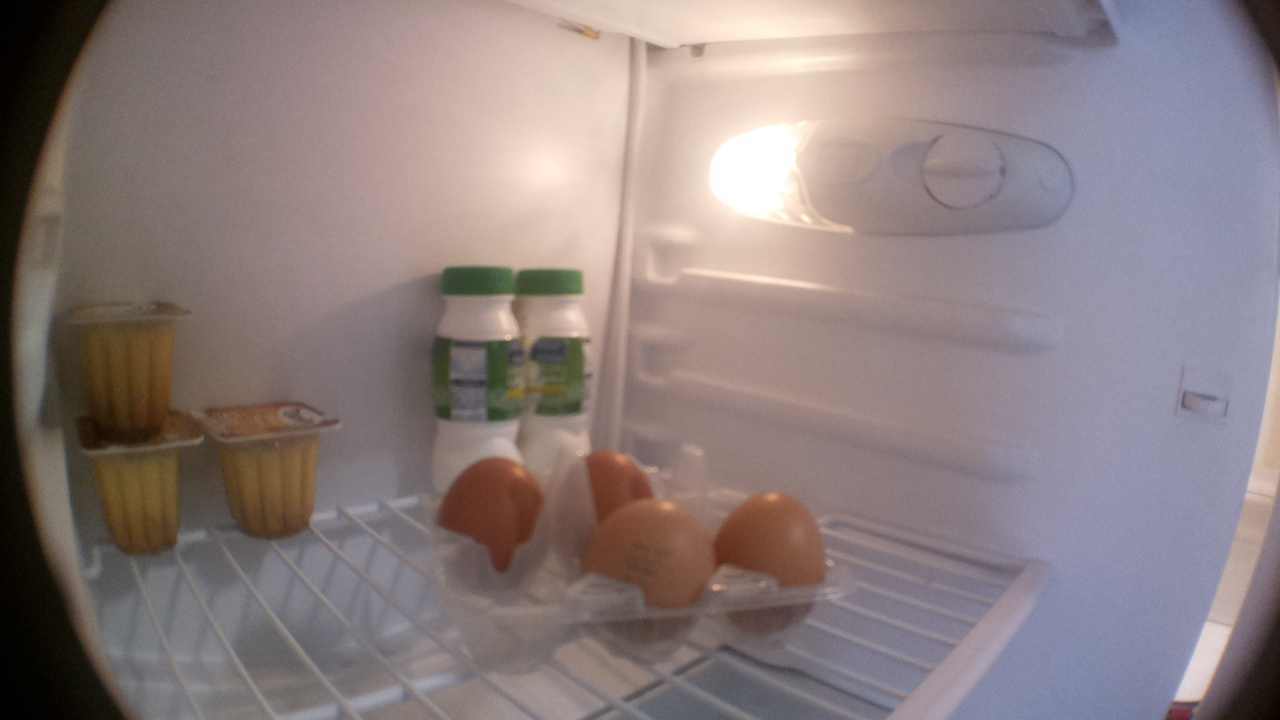caramel: (189, 397, 347, 557), (54, 297, 196, 442), (70, 427, 206, 557)
egg: (574, 500, 712, 658), (433, 457, 551, 599), (715, 489, 826, 639), (568, 449, 655, 509)
laban: (419, 263, 519, 457), (515, 265, 596, 461)
